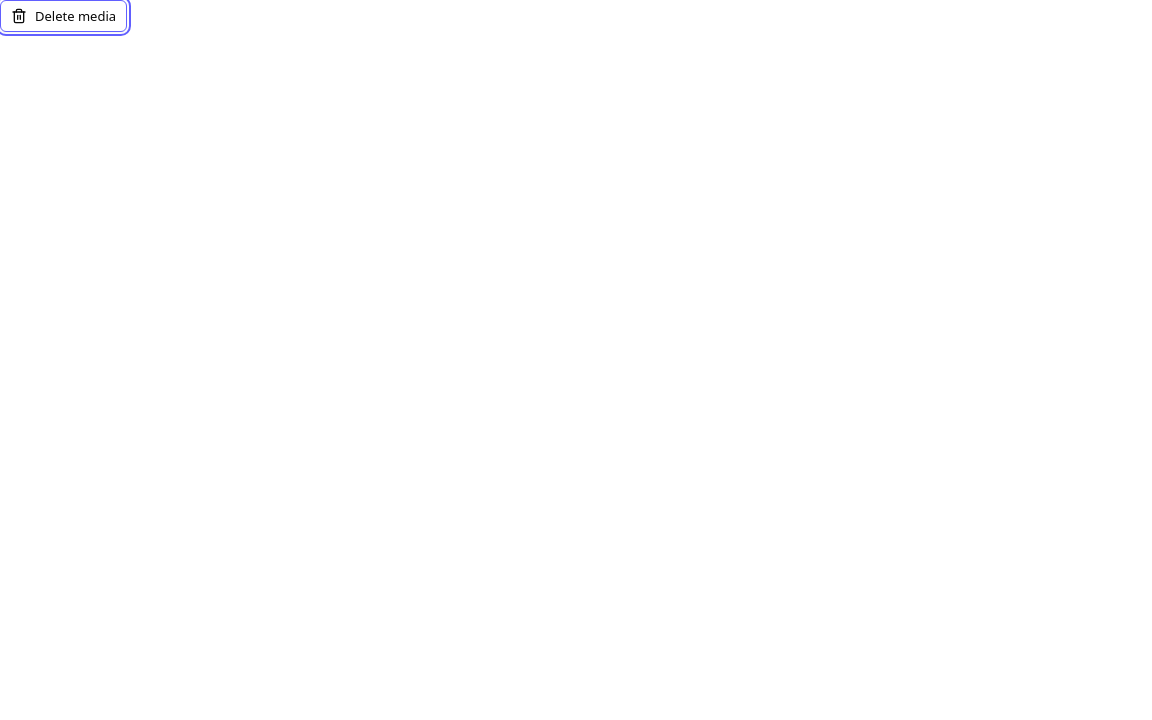
Test: cancelling sends nothing and returns focus to the delete action
Press Enter
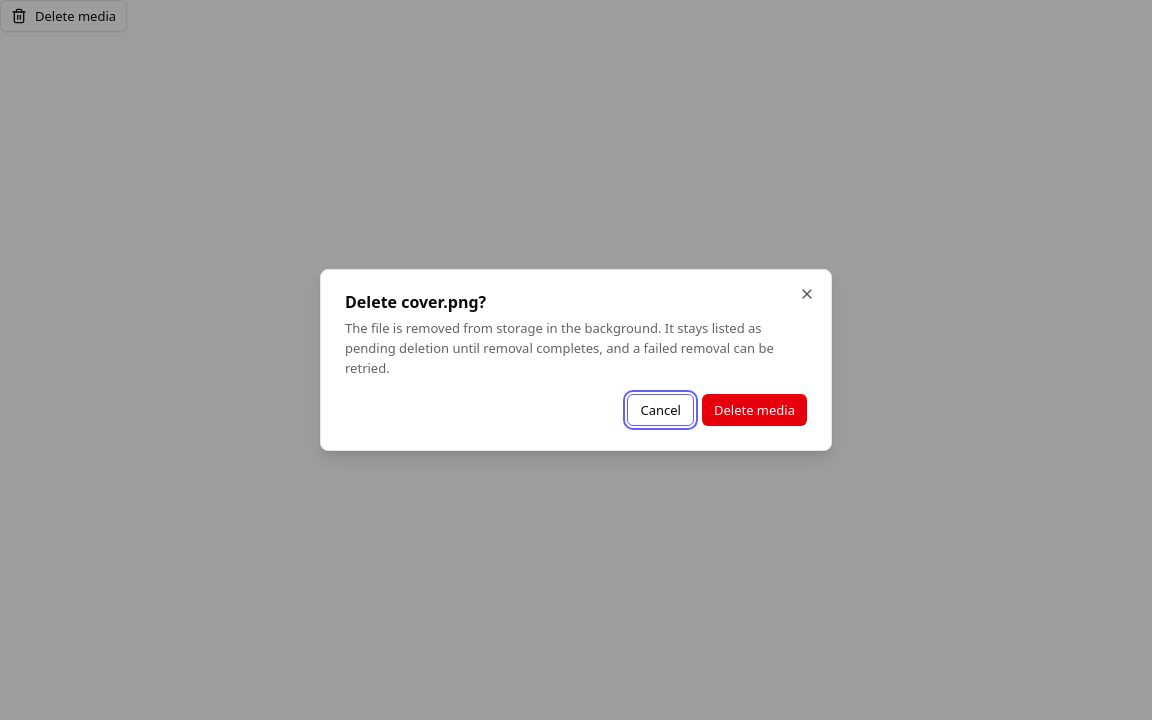
Check: the dialog "Delete cover.png?" is shown, box [320,269,832,451]
Click the button "Cancel" at (661, 410), box [628,394,694,426]
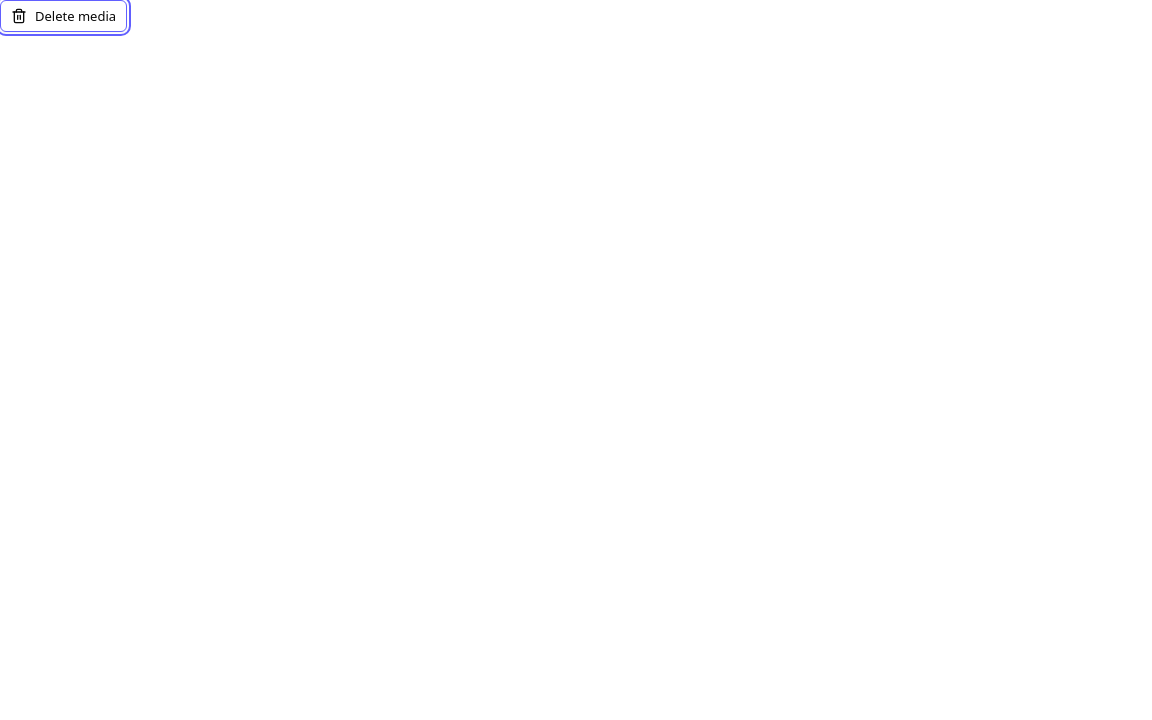
Check: the dialog is gone
